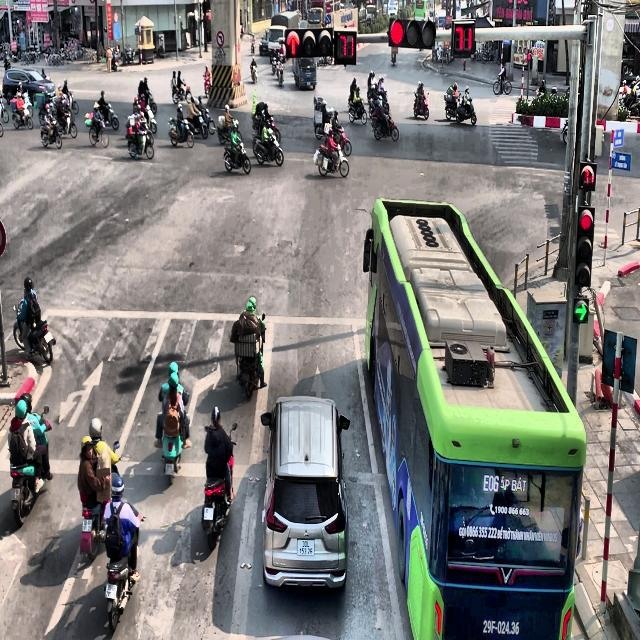BUS: (362, 197, 586, 639)
CAR: (260, 395, 350, 590), (2, 68, 56, 106)
MOTORBIKE: (79, 441, 121, 561), (104, 514, 145, 632), (10, 411, 52, 526), (201, 422, 237, 550), (160, 392, 189, 485), (235, 313, 266, 398), (13, 302, 55, 363), (314, 142, 349, 178), (252, 131, 284, 166), (84, 101, 119, 132), (223, 139, 251, 174), (370, 109, 399, 142), (127, 126, 154, 160), (168, 116, 195, 148), (192, 97, 215, 134), (40, 115, 62, 148), (89, 114, 109, 148), (331, 124, 352, 156), (12, 100, 34, 130), (186, 111, 208, 139), (56, 109, 77, 138), (444, 92, 464, 120), (348, 97, 367, 125), (413, 90, 429, 120), (141, 105, 157, 134), (493, 71, 512, 95), (61, 90, 79, 114), (171, 81, 189, 104), (0, 92, 9, 123), (250, 57, 258, 83), (276, 60, 284, 86), (203, 78, 210, 97), (271, 54, 277, 74)
TRAFFIC_LIGHT: (574, 204, 594, 288), (388, 17, 436, 49), (285, 27, 333, 58), (452, 20, 475, 56), (334, 30, 357, 64), (579, 161, 596, 191)
